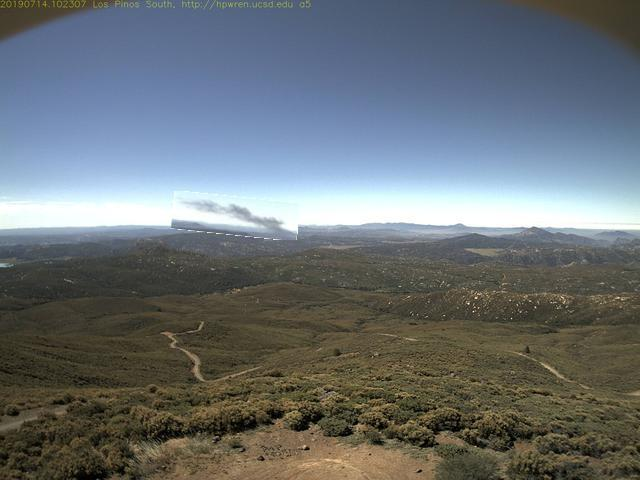smoke: (173, 195, 301, 239)
